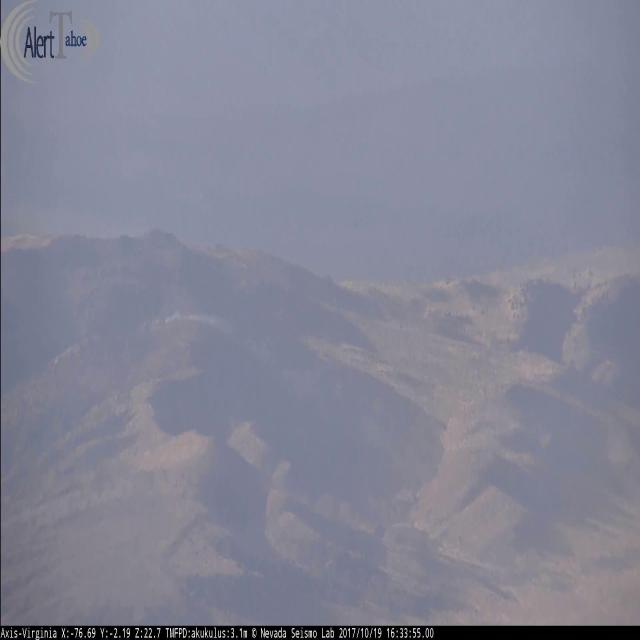smoke: (154, 304, 254, 364)
